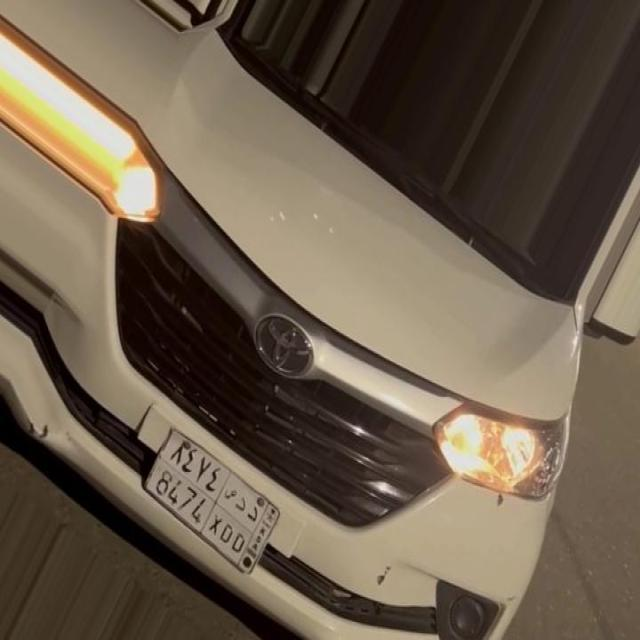Car-plate: (127, 407, 301, 609)
